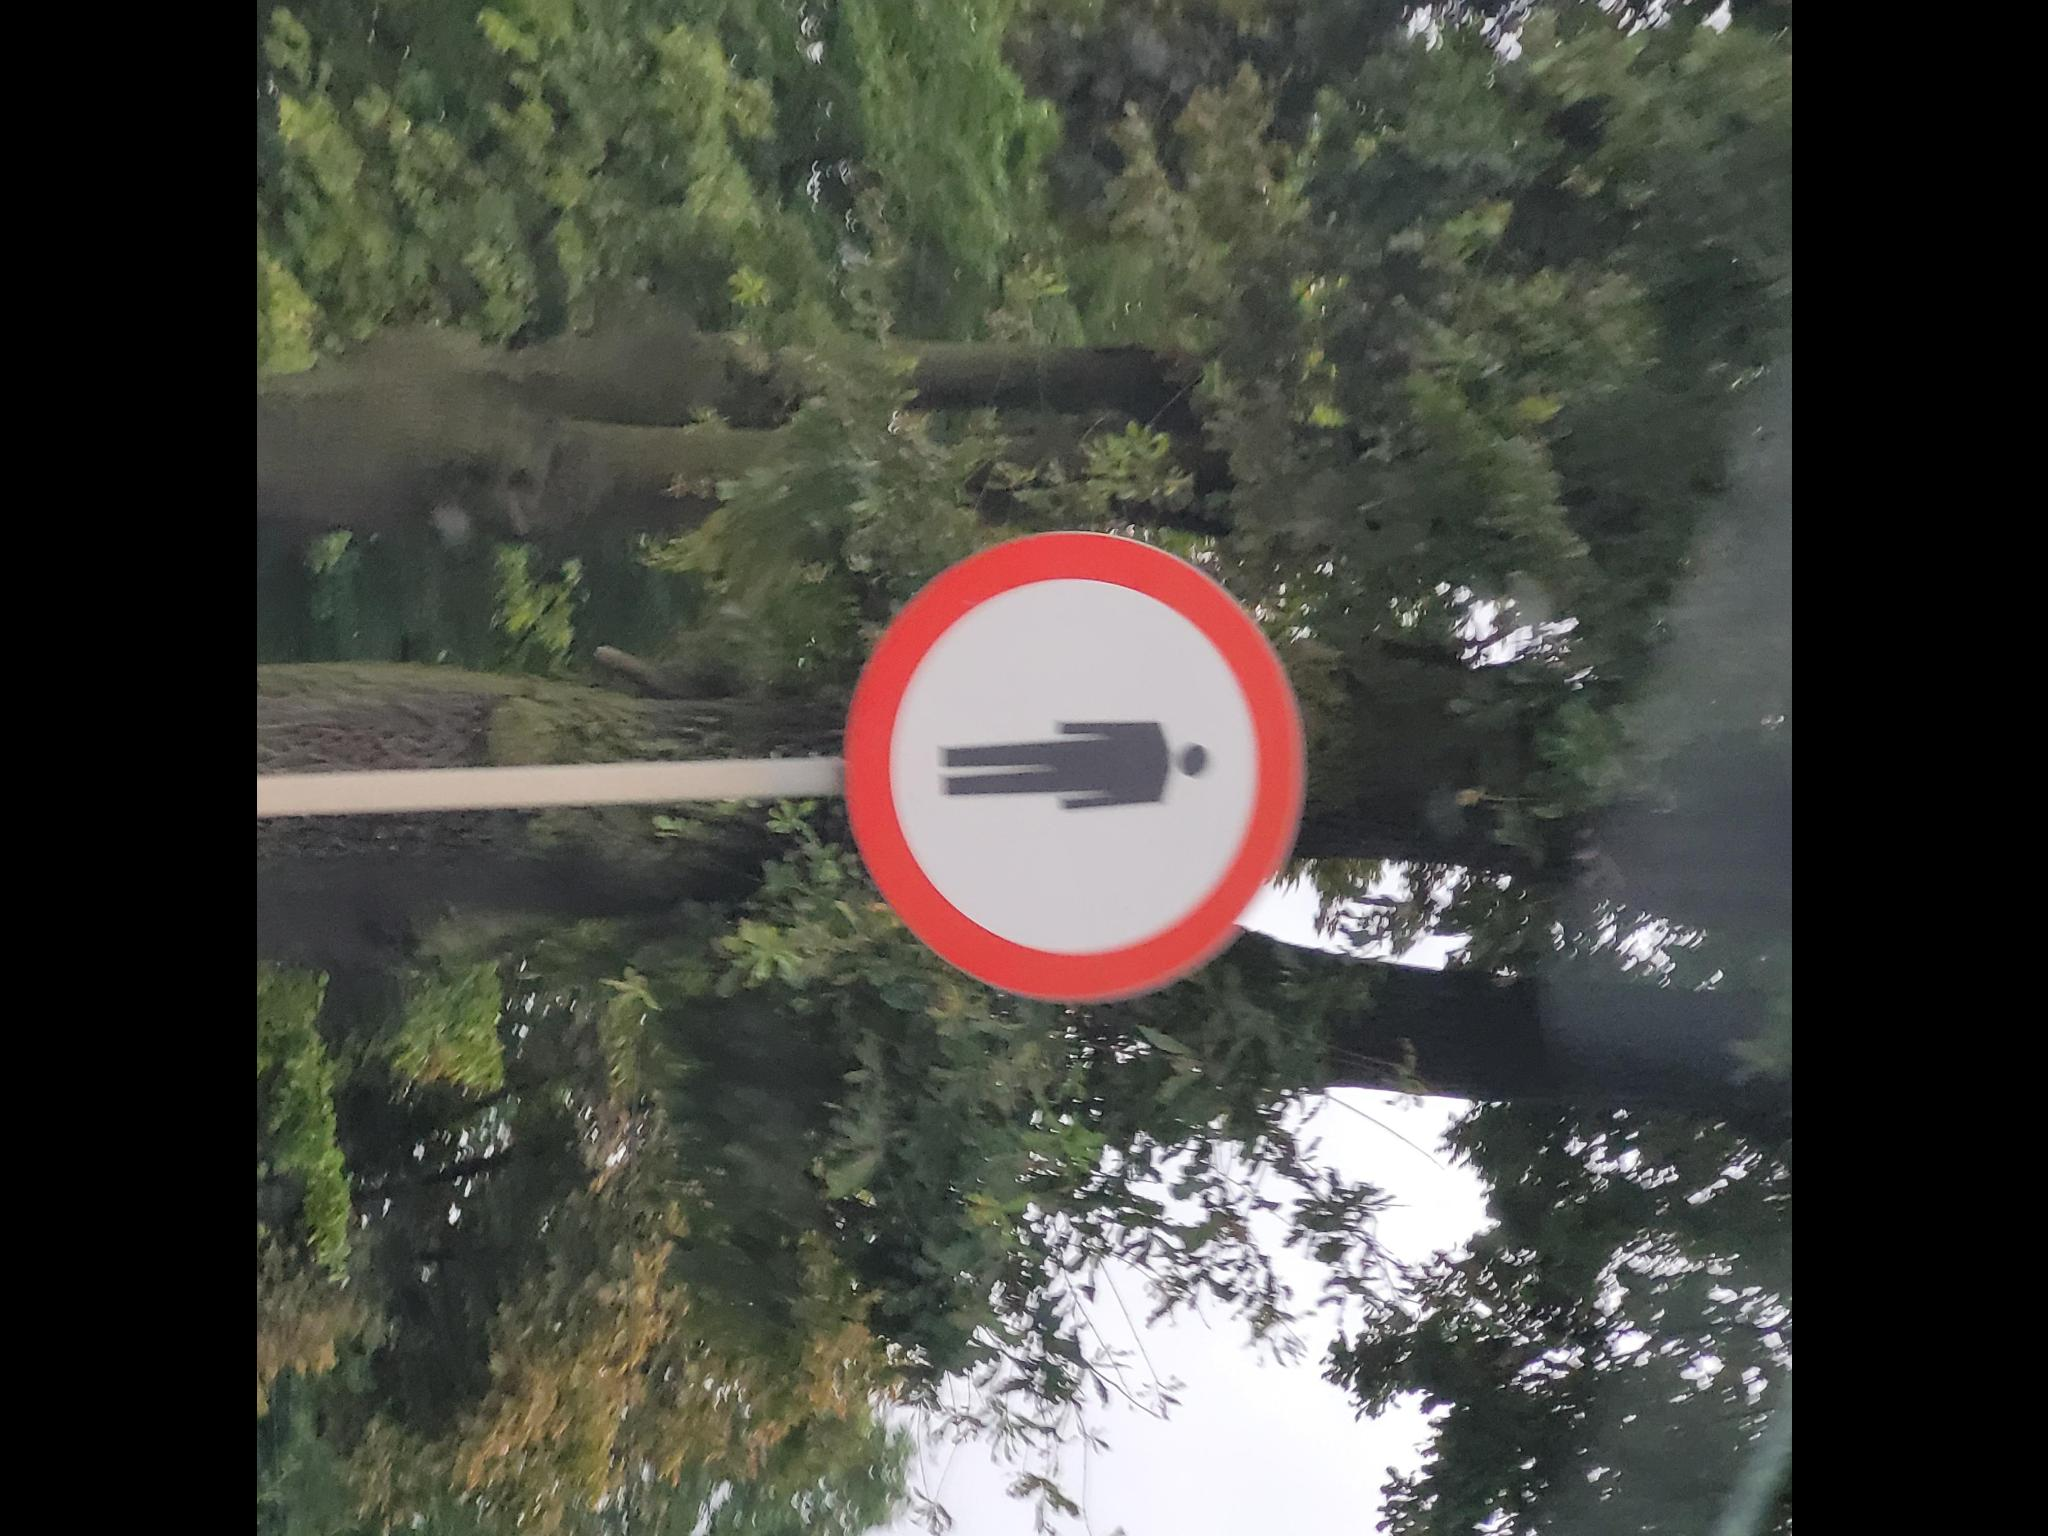prohibitory: (837, 521, 1309, 1008)
